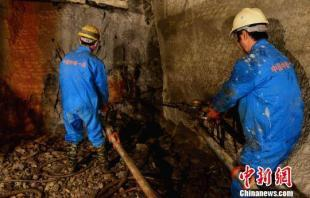boots: (94, 144, 110, 172), (65, 142, 78, 170)
gloves: (206, 106, 222, 123)
hard-hat: (229, 6, 269, 36), (76, 23, 100, 40)
person: (206, 7, 305, 197), (58, 24, 117, 173)
ppe-suit: (208, 38, 304, 178), (58, 45, 110, 148)
